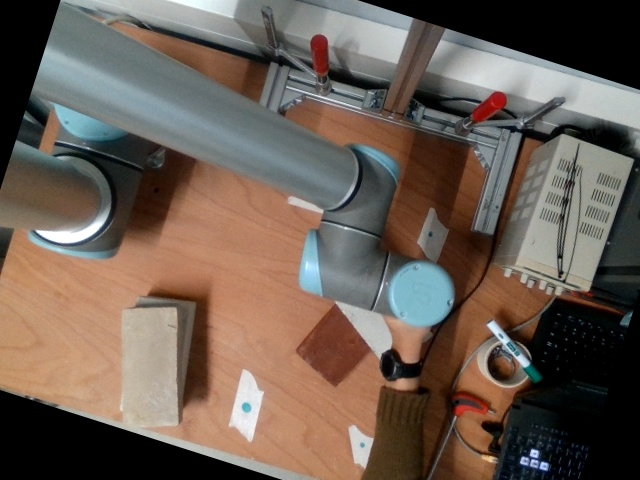brick: (123, 311, 174, 424)
